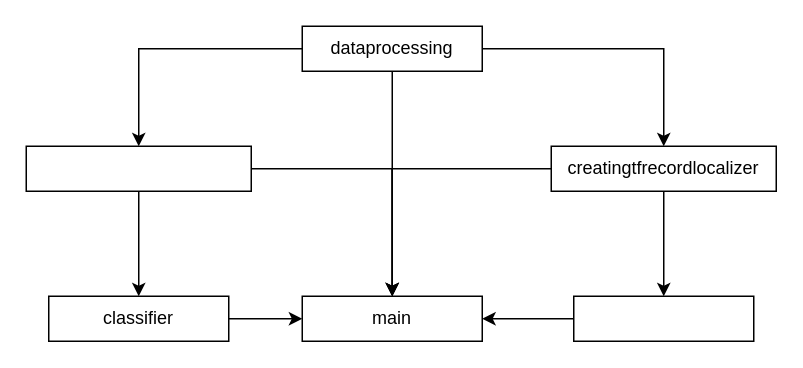
Image size: 803x368. Some labels were removed from this diagram. Each missing label, with the box of its shape:
creatingtfrecordclassifier: (25, 145, 251, 191)
training: (572, 295, 754, 341)
